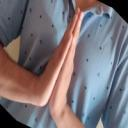hand: (33, 6, 80, 107), (47, 12, 84, 119)
